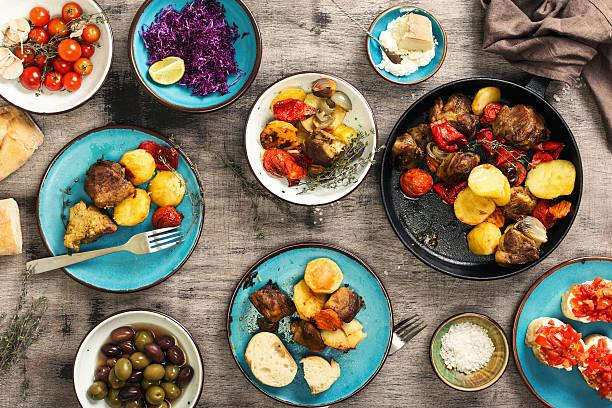Braised Crucian Carp: (378, 76, 579, 277), (37, 121, 203, 288), (226, 241, 391, 404), (242, 72, 374, 206), (127, 1, 258, 113)
